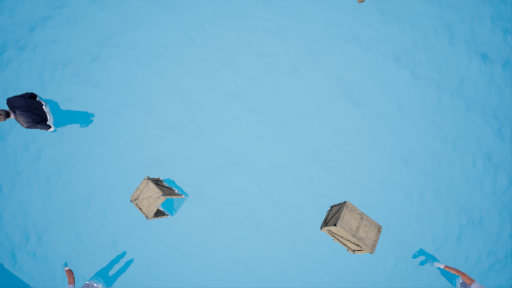person: (2, 90, 94, 136)
